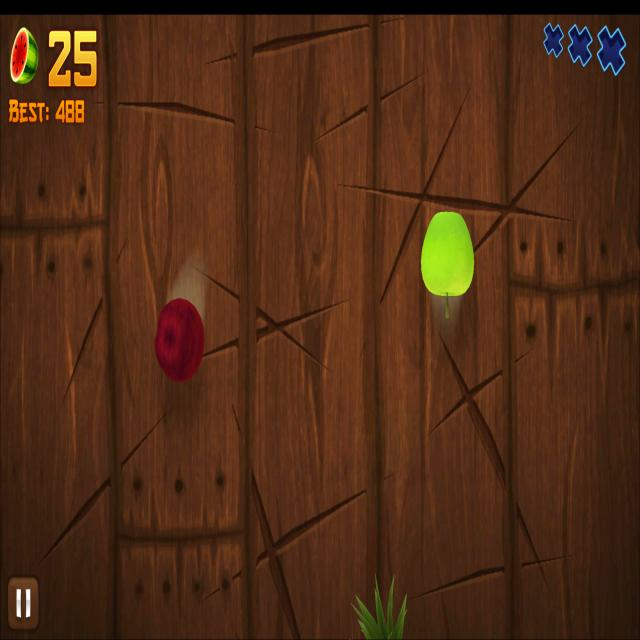fruit: (420, 208, 475, 300), (154, 297, 206, 383)
